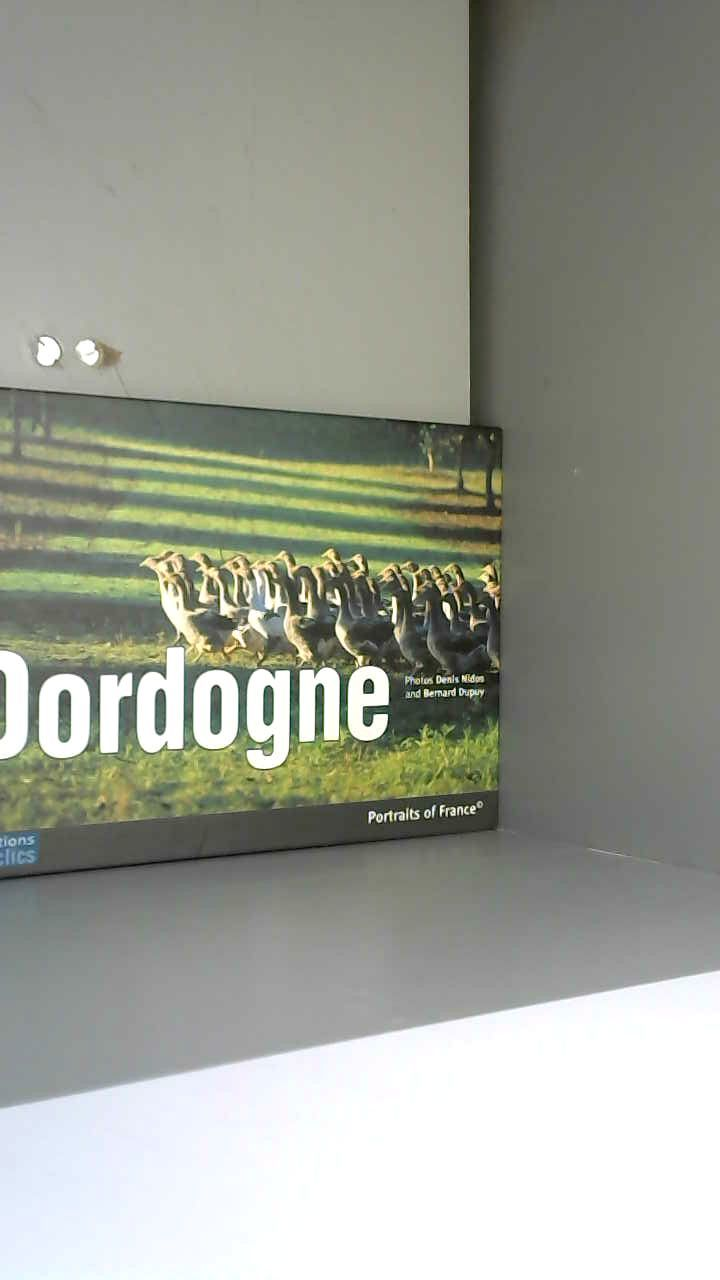book: (0, 365, 543, 901)
